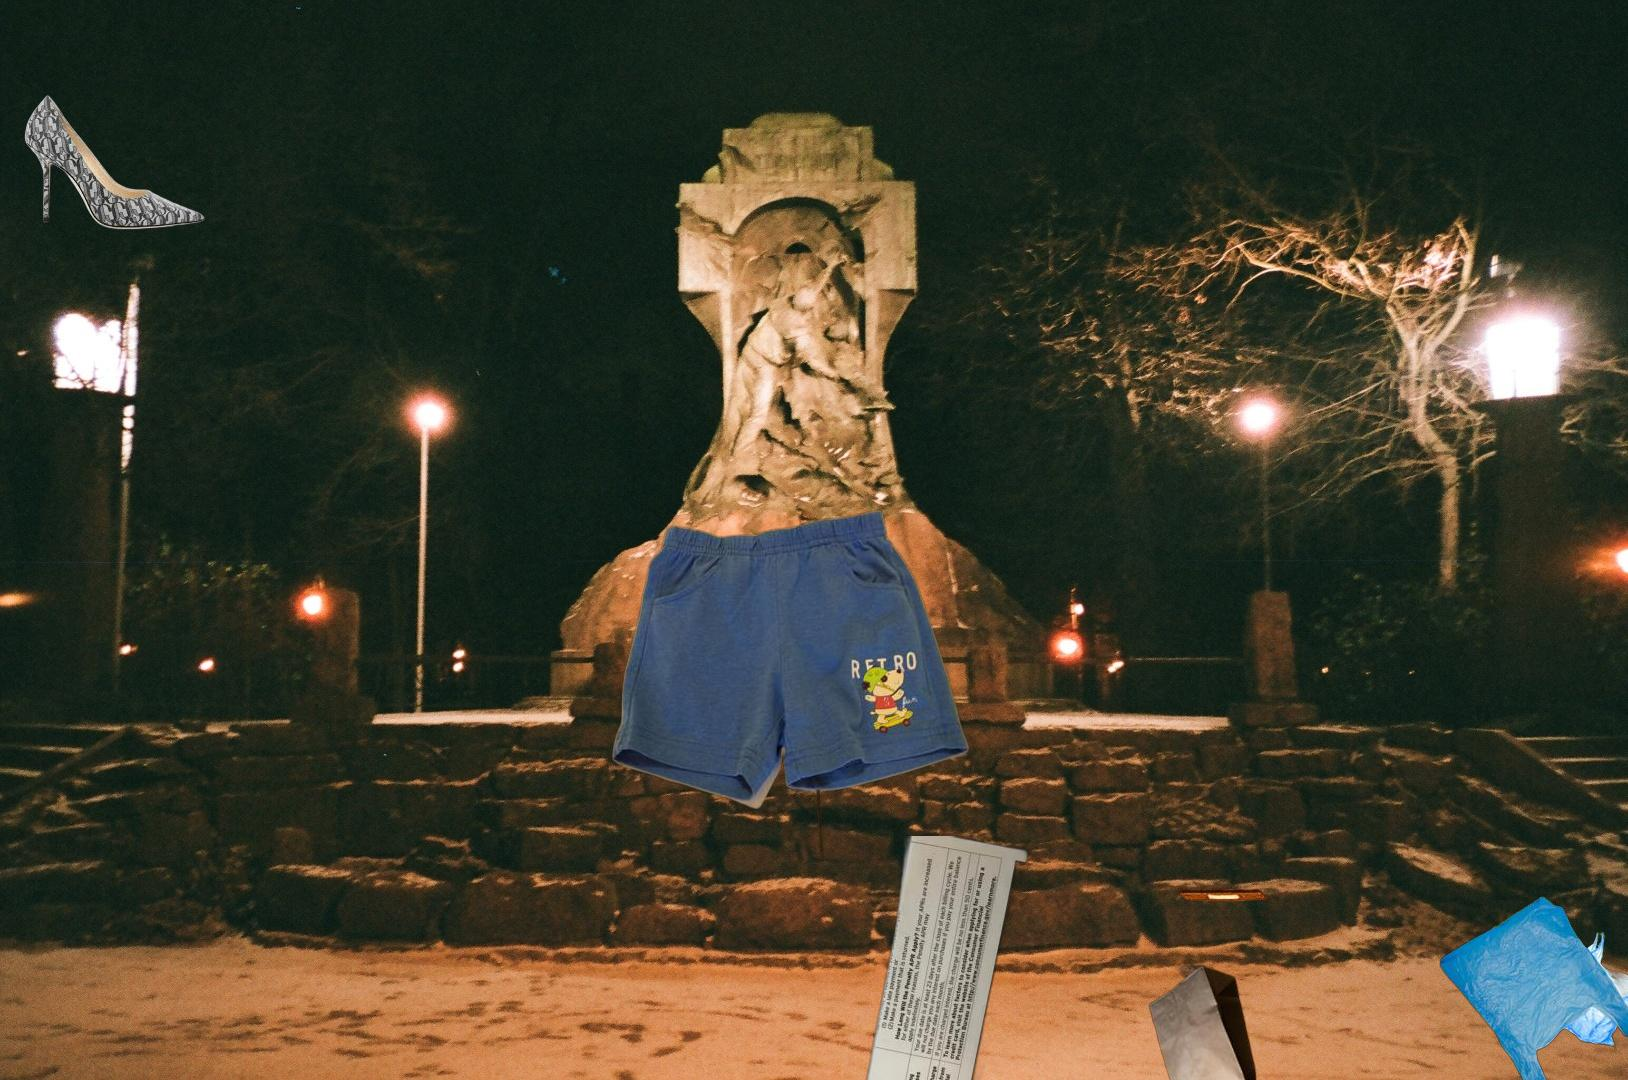clothes: (609, 507, 972, 858)
paper: (853, 837, 1034, 1080)
paper-bag: (1146, 864, 1270, 1080)
plastic-bag: (1439, 893, 1628, 1080)
shoes: (22, 92, 207, 233)
